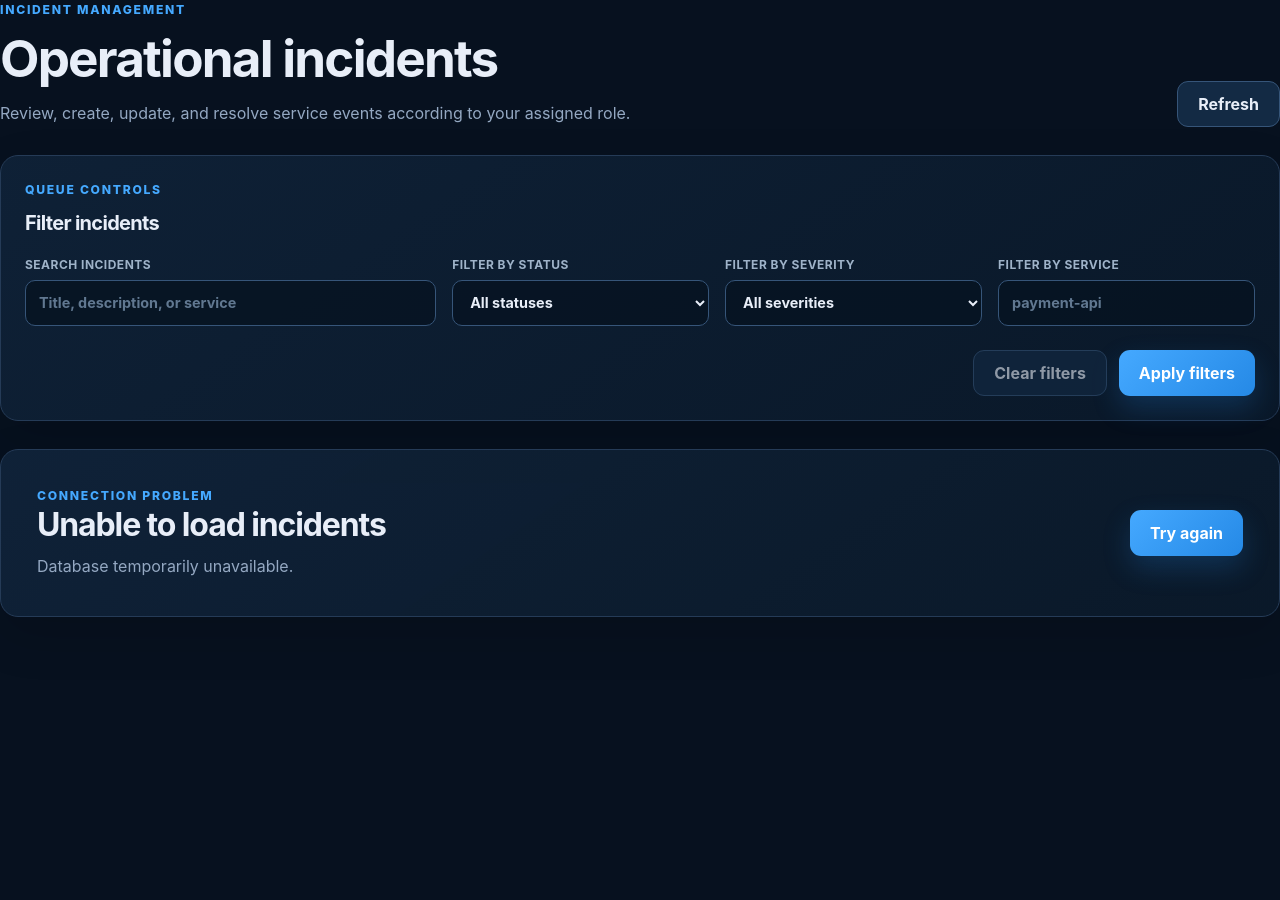
it: IncidentsPage › allows a failed Incident list request to be retried
The image size is (1280, 900).
Check: the text "Database temporarily unavailable." is shown, box left=37, top=556, right=293, bottom=576
Click the button "Try again".
click(1186, 533)  # box left=1130, top=510, right=1243, bottom=556
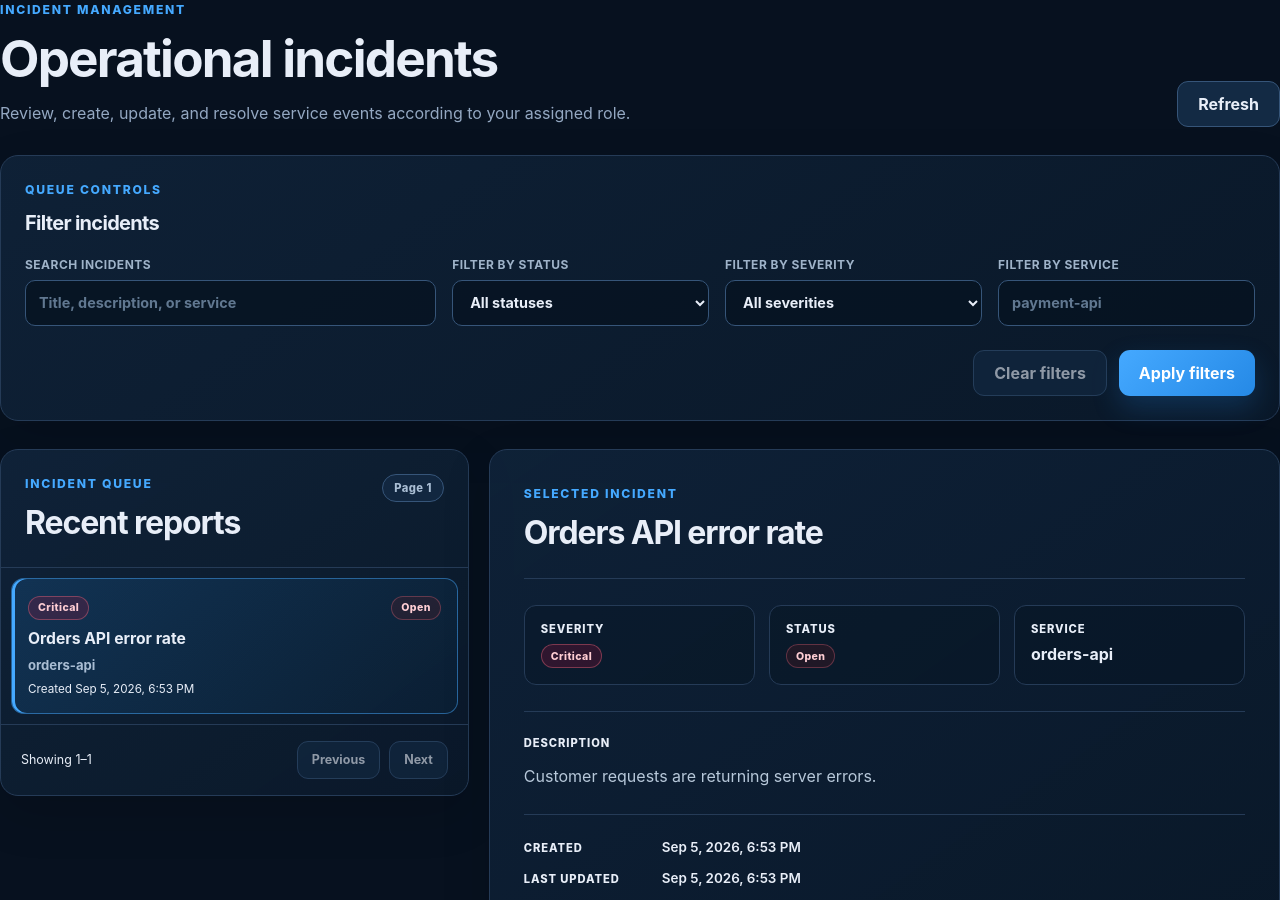
Check: the text "Orders API error rate" is shown 2 times, box left=28, top=629, right=186, bottom=648; left=524, top=514, right=823, bottom=553
